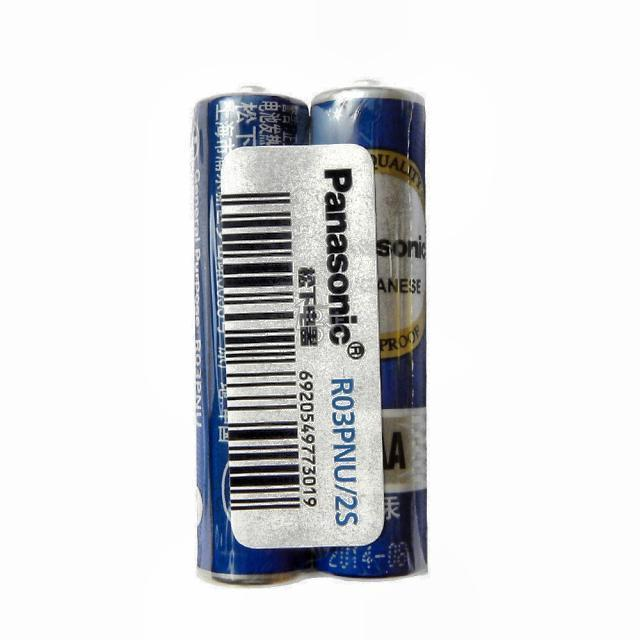battery: (195, 84, 428, 584)
